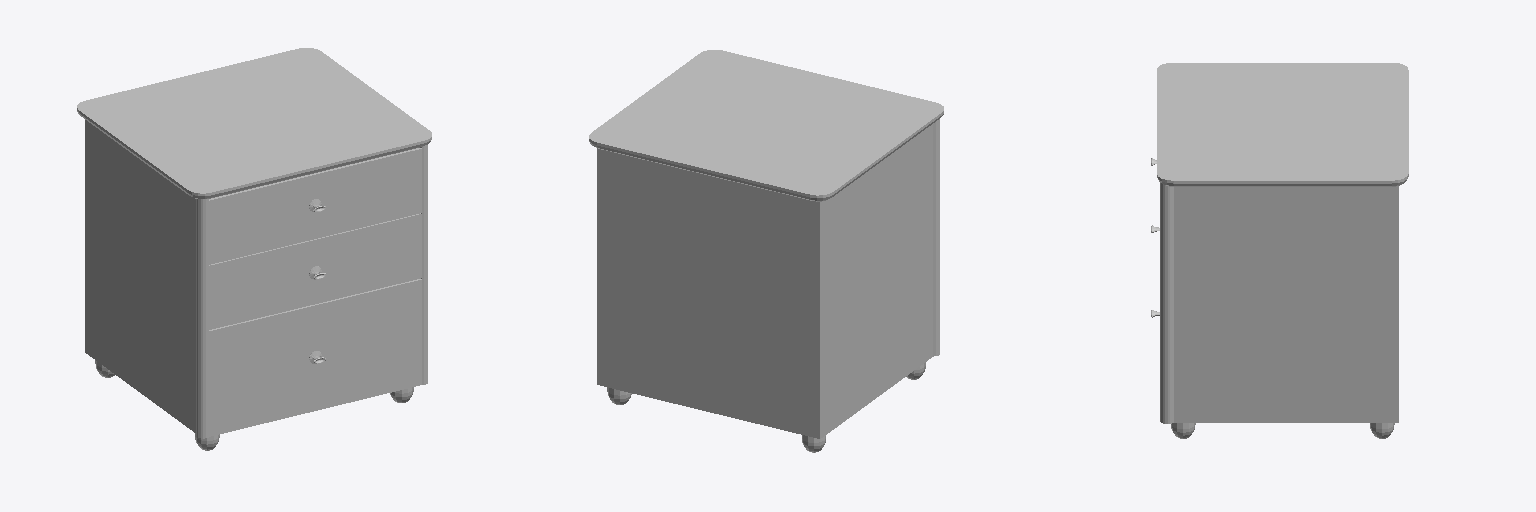
Rendered from cassettiera_camera.obj.
3 renders of one model, left to right at view 1: azimuth 30°, elevation 25°; view 2: azimuth 150°, elevation 25°; view 3: azimuth 270°, elevation 25°, orthographic.
Parts seen in each view (by area): view 1: main; view 2: main; view 3: main.
Boxes of the visible parts, x1=… form: main: x1=77, y1=48, x2=431, y2=450; main: x1=589, y1=50, x2=943, y2=452; main: x1=1157, y1=63, x2=1408, y2=438.
Size of the model in its own units: 50 by 53 by 45.95.